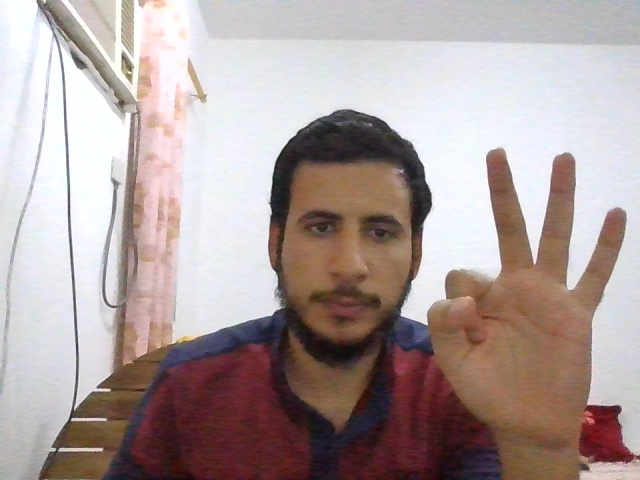Three: (426, 147, 629, 443)
